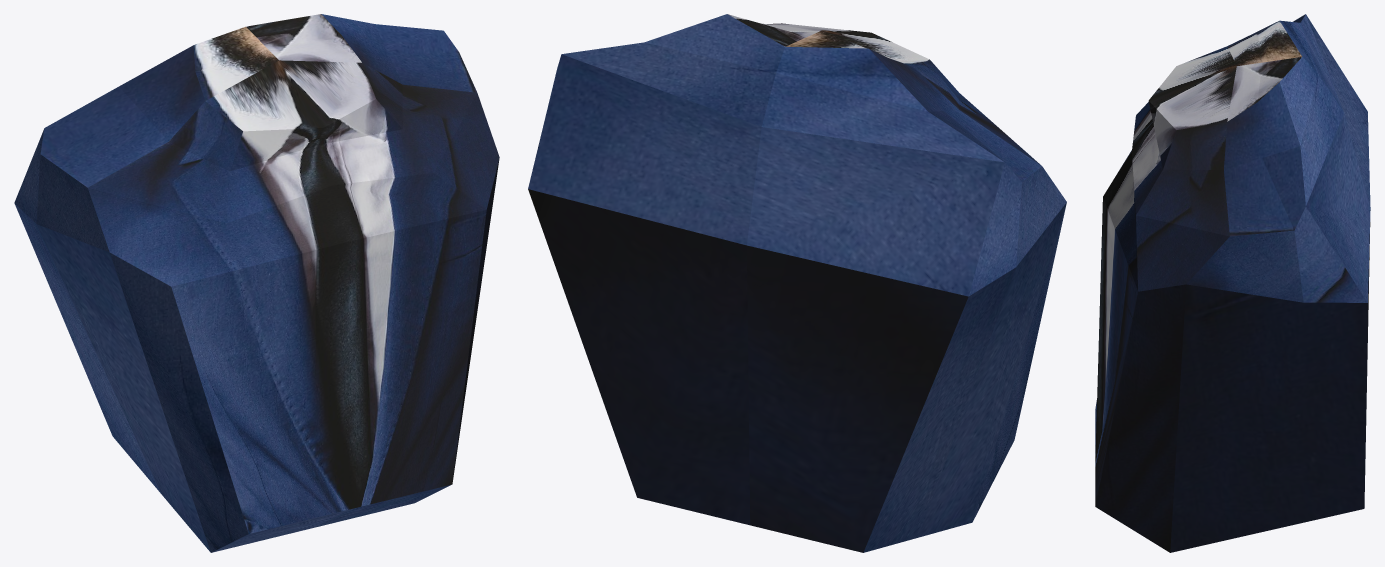
File: Business.fbx
3 views of the same model, side by side, from view 1: azimuth 30°, elevation 25°; view 2: azimuth 150°, elevation 25°; view 3: azimuth 270°, elevation 25° (orthographic). The views are drawn at different scales.
Visible parts, largest first — view 1: BusinessShirt.001; view 2: BusinessShirt.001; view 3: BusinessShirt.001.
Part boxes in pixels (<box>): BusinessShirt.001: <box>14,14,499,552</box>; BusinessShirt.001: <box>528,14,1066,552</box>; BusinessShirt.001: <box>1095,14,1370,552</box>.
Size of the model in its own units: 212 by 221 by 122.
